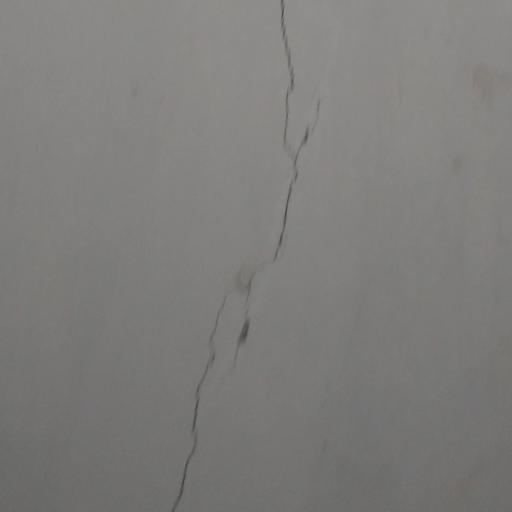minor_crack: (169, 0, 332, 512)
